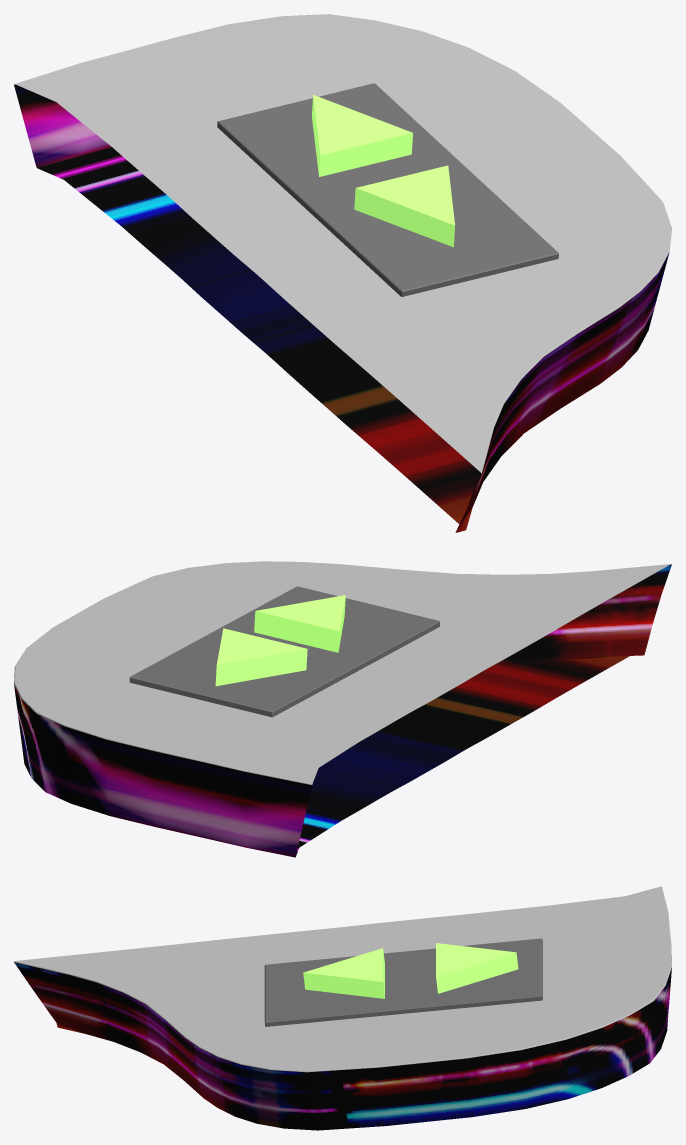
File: side_volume_buttons.fbx
3 views of the same model, one above another, from view 1: azimuth 30°, elevation 25°; view 2: azimuth 150°, elevation 25°; view 3: azimuth 270°, elevation 25° (orthographic). The views are drawn at different scales.
Parts seen in each view (by area): view 1: polySurface8, polySurface9, pCube117, volume_up, volume_down; view 2: polySurface8, polySurface9, pCube117, volume_up, volume_down; view 3: polySurface8, polySurface9, pCube117, volume_up, volume_down.
Part boxes in pixels (x1,y1,x2,y2): polySurface8: [14, 14, 671, 473]; polySurface9: [14, 84, 669, 532]; pCube117: [217, 83, 558, 296]; volume_up: [312, 95, 412, 176]; volume_down: [354, 165, 454, 247]; polySurface8: [14, 561, 671, 784]; polySurface9: [14, 565, 671, 857]; pCube117: [129, 586, 440, 717]; volume_up: [215, 628, 307, 686]; volume_down: [254, 595, 345, 652]; polySurface8: [14, 886, 671, 1072]; polySurface9: [14, 962, 671, 1130]; pCube117: [264, 938, 542, 1026]; volume_up: [436, 943, 518, 993]; volume_down: [303, 948, 384, 998].
Bounding box in the file's own units: 0.317 × 0.1265 × 0.5748.
